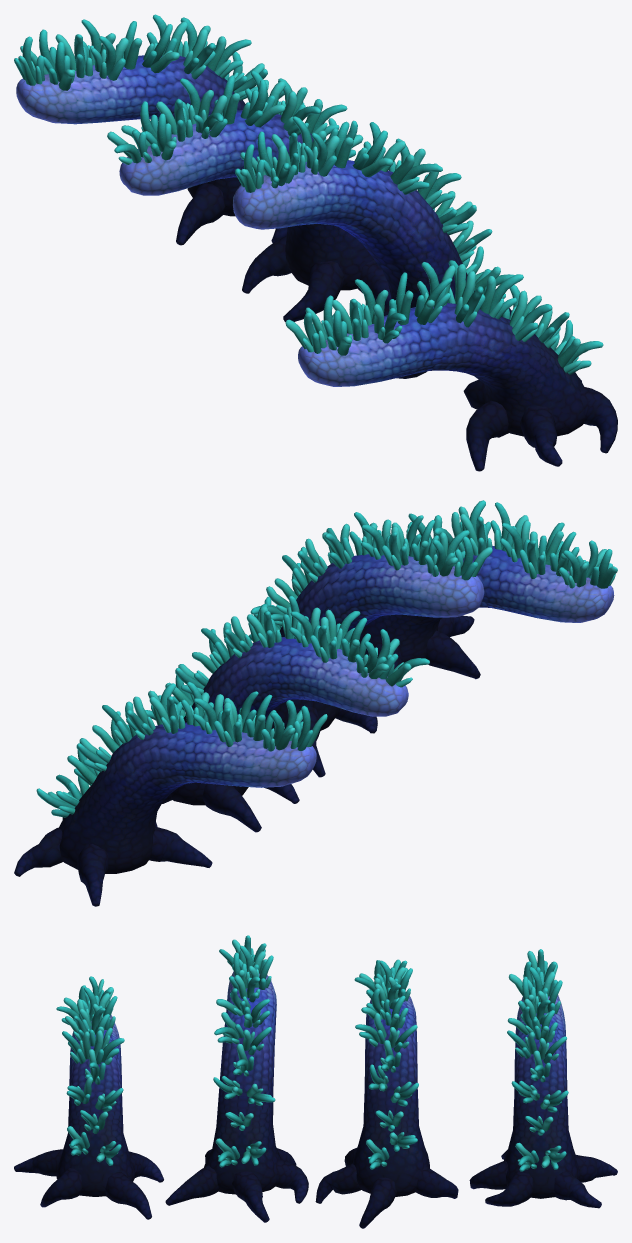
The model's file is green mohawk.fbx.
The picture shows the model from 3 angles, top to bottom: view 1: azimuth 30°, elevation 25°; view 2: azimuth 150°, elevation 25°; view 3: azimuth 270°, elevation 25°; orthographic projection. The views are drawn at different scales.
Parts seen in each view (by area): view 1: Coral_reef_green_mohawk_01_d_LOD0, Coral_reef_green_mohawk_01_c_LOD0, Coral_reef_green_mohawk_01_b_LOD0, Coral_reef_green_mohawk_01_a_LOD0; view 2: Coral_reef_green_mohawk_01_a_LOD0, Coral_reef_green_mohawk_01_b_LOD0, Coral_reef_green_mohawk_01_c_LOD0, Coral_reef_green_mohawk_01_d_LOD0; view 3: Coral_reef_green_mohawk_01_c_LOD0, Coral_reef_green_mohawk_01_a_LOD0, Coral_reef_green_mohawk_01_b_LOD0, Coral_reef_green_mohawk_01_d_LOD0.
Part boxes in pixels (x1,y1,x2,y2): Coral_reef_green_mohawk_01_d_LOD0: [285, 260, 617, 471]; Coral_reef_green_mohawk_01_c_LOD0: [233, 116, 519, 378]; Coral_reef_green_mohawk_01_b_LOD0: [107, 70, 391, 321]; Coral_reef_green_mohawk_01_a_LOD0: [14, 14, 287, 245]; Coral_reef_green_mohawk_01_a_LOD0: [14, 681, 327, 906]; Coral_reef_green_mohawk_01_b_LOD0: [145, 595, 429, 832]; Coral_reef_green_mohawk_01_c_LOD0: [248, 512, 492, 777]; Coral_reef_green_mohawk_01_d_LOD0: [359, 500, 617, 679]; Coral_reef_green_mohawk_01_c_LOD0: [165, 935, 308, 1222]; Coral_reef_green_mohawk_01_a_LOD0: [469, 949, 617, 1208]; Coral_reef_green_mohawk_01_b_LOD0: [315, 959, 458, 1228]; Coral_reef_green_mohawk_01_d_LOD0: [14, 976, 163, 1219].
Size of the model in its own units: 3.12 by 2.44 by 6.56.
